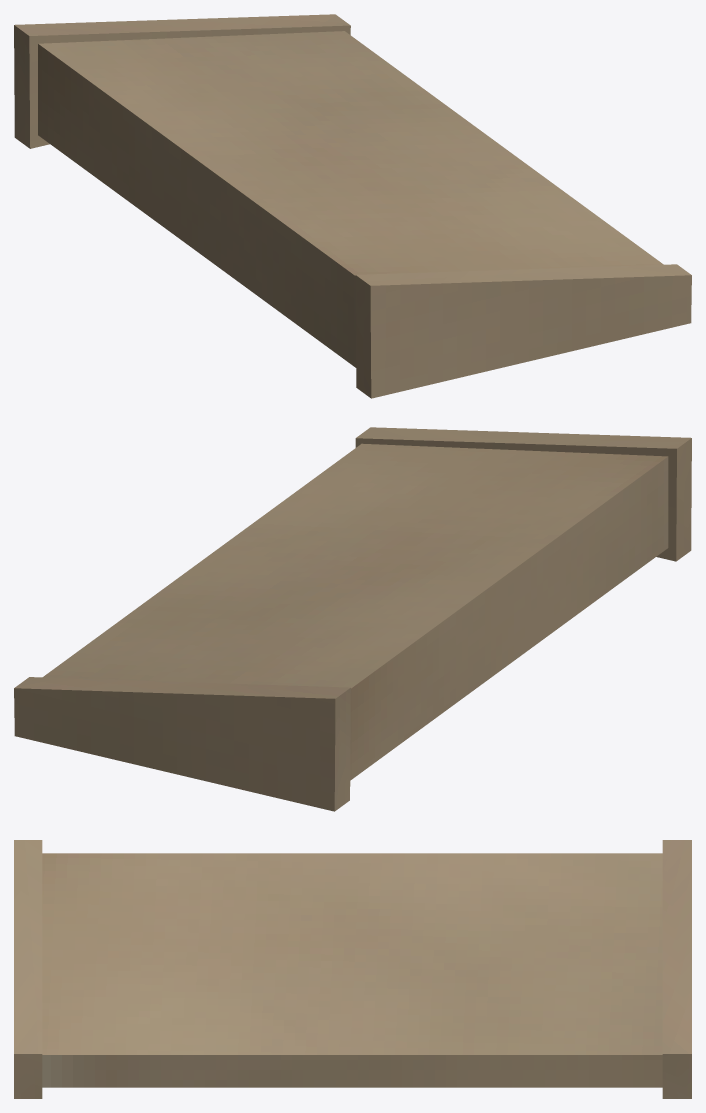
Rendered from stoykaforbuttons.glb.
3 renders of one model, top to bottom at view 1: azimuth 30°, elevation 25°; view 2: azimuth 150°, elevation 25°; view 3: azimuth 270°, elevation 25°, orthographic. The views are drawn at different scales.
Visible parts, largest first — view 1: Cube.005; view 2: Cube.005; view 3: Cube.005.
Boxes of the visible parts, x1,y1,x2,y2 form: Cube.005: (14,14,691,398); Cube.005: (14,427,691,811); Cube.005: (14,840,691,1098).
Bounding box in the file's own units: 0.8868 × 0.3047 × 1.7.
1 material, 1 textured.
